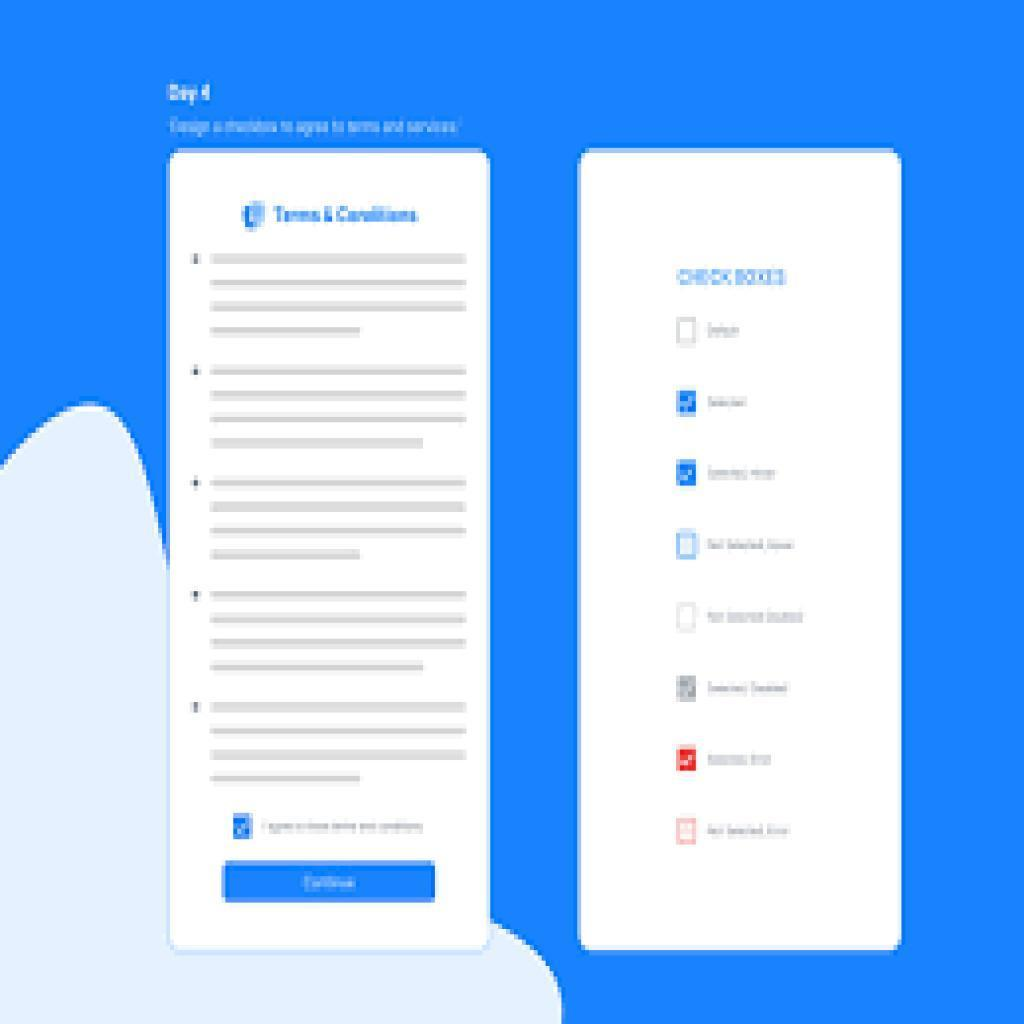button: (223, 861, 435, 906)
checkbox: (675, 818, 700, 847), (675, 747, 700, 775), (679, 529, 699, 563), (676, 390, 699, 418), (676, 319, 699, 346), (678, 677, 701, 703), (679, 603, 698, 633), (233, 814, 254, 841)
